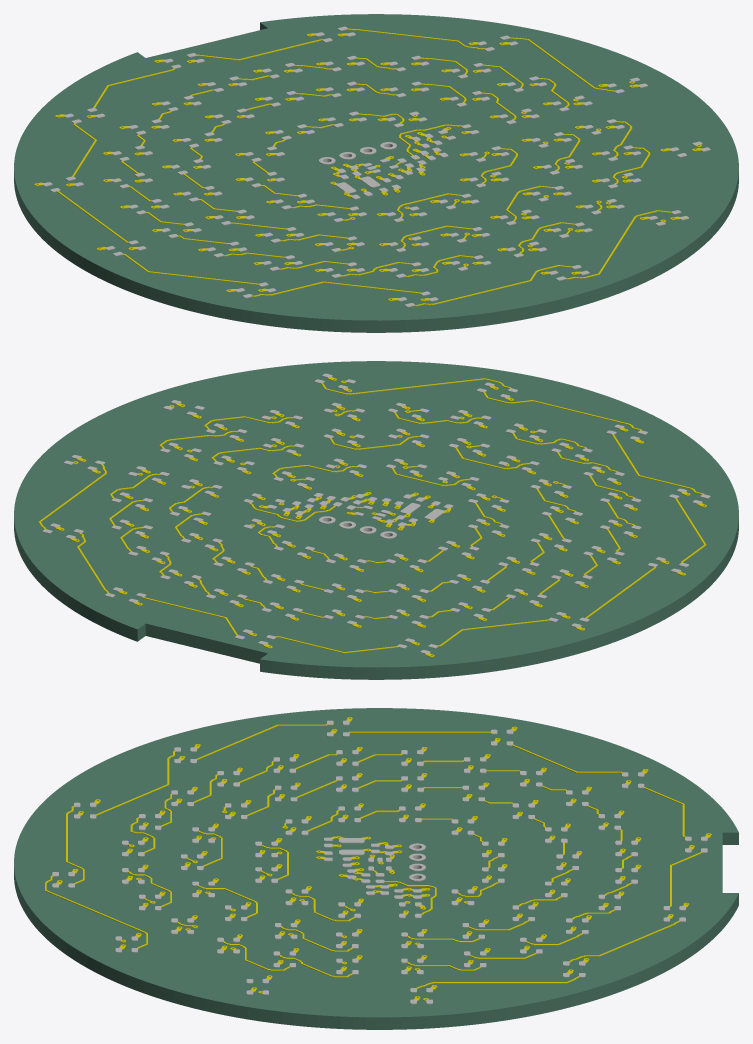
Rendered from LB1_with_components.glb.
3 views of the same model, one above another, from view 1: azimuth 30°, elevation 25°; view 2: azimuth 150°, elevation 25°; view 3: azimuth 270°, elevation 25° (orthographic).
Parts seen in each view (by area): view 1: =>[0:1:1:5], =>[0:1:1:2], =>[0:1:1:3], =>[0:1:1:4]; view 2: =>[0:1:1:5], =>[0:1:1:2], =>[0:1:1:3], =>[0:1:1:4]; view 3: =>[0:1:1:5], =>[0:1:1:2], =>[0:1:1:3], =>[0:1:1:4].
Boxes of the visible parts, box(x1,y1,x2,y2) form: =>[0:1:1:5]: box(14, 14, 738, 332); =>[0:1:1:2]: box(34, 28, 701, 306); =>[0:1:1:3]: box(42, 26, 710, 307); =>[0:1:1:4]: box(36, 34, 699, 299); =>[0:1:1:5]: box(14, 361, 738, 679); =>[0:1:1:2]: box(39, 376, 706, 657); =>[0:1:1:3]: box(42, 373, 710, 653); =>[0:1:1:4]: box(60, 378, 705, 655); =>[0:1:1:5]: box(14, 708, 738, 1029); =>[0:1:1:2]: box(45, 717, 711, 1001); =>[0:1:1:3]: box(52, 720, 707, 1004); =>[0:1:1:4]: box(58, 717, 709, 999).
Size of the model in its own units: 0.078 by 0.00162 by 0.0772.
